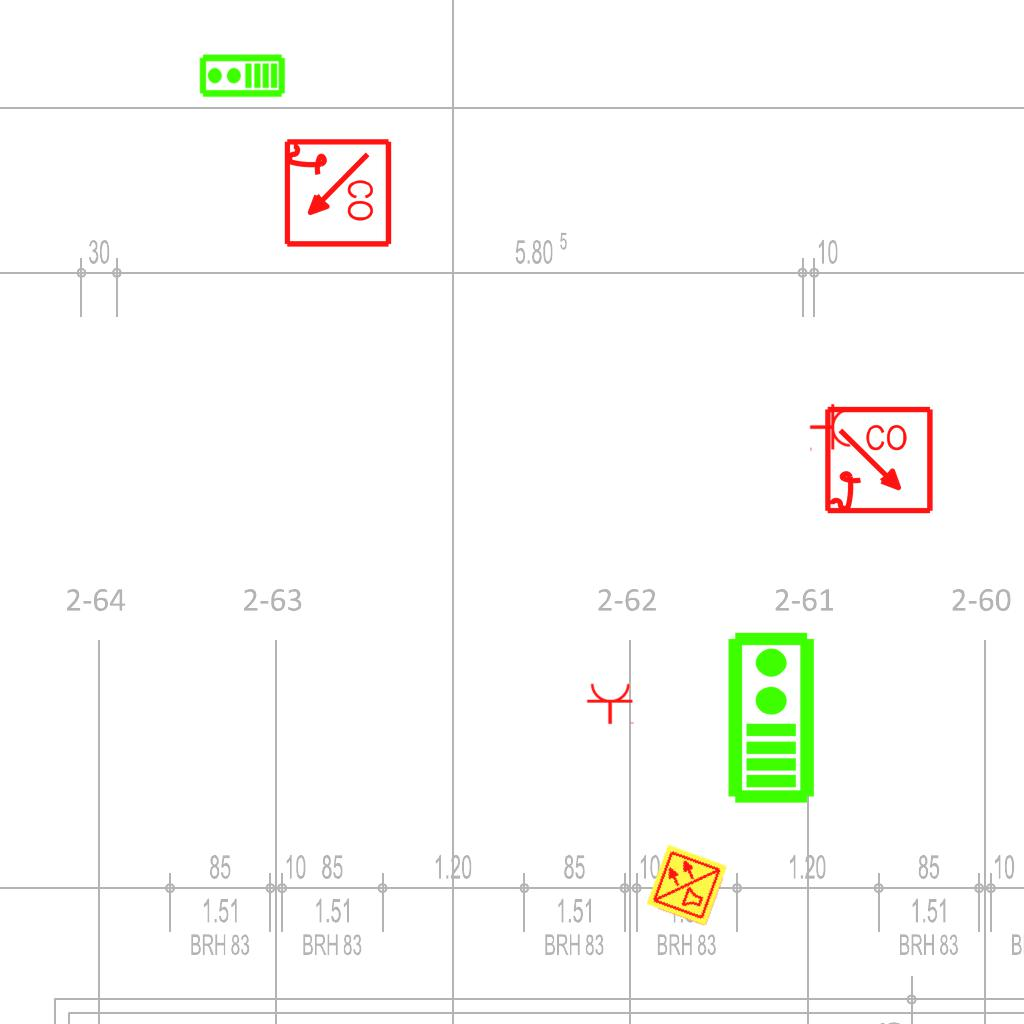Gegensprechanlage_mit_Video: (722, 629, 817, 805), (198, 53, 286, 100)
OKW_Multisensormelder_(Kombination_optischer_Rauch-Kahlenmonoxid_Waerme-Melder): (644, 842, 730, 928)
ROA_Rauchmelder_optisch_mit_Signalgeber_(Sockelsirene): (280, 137, 393, 250), (823, 405, 936, 518)
Schukosteckdose_einfach: (586, 682, 636, 725), (809, 403, 852, 453)
